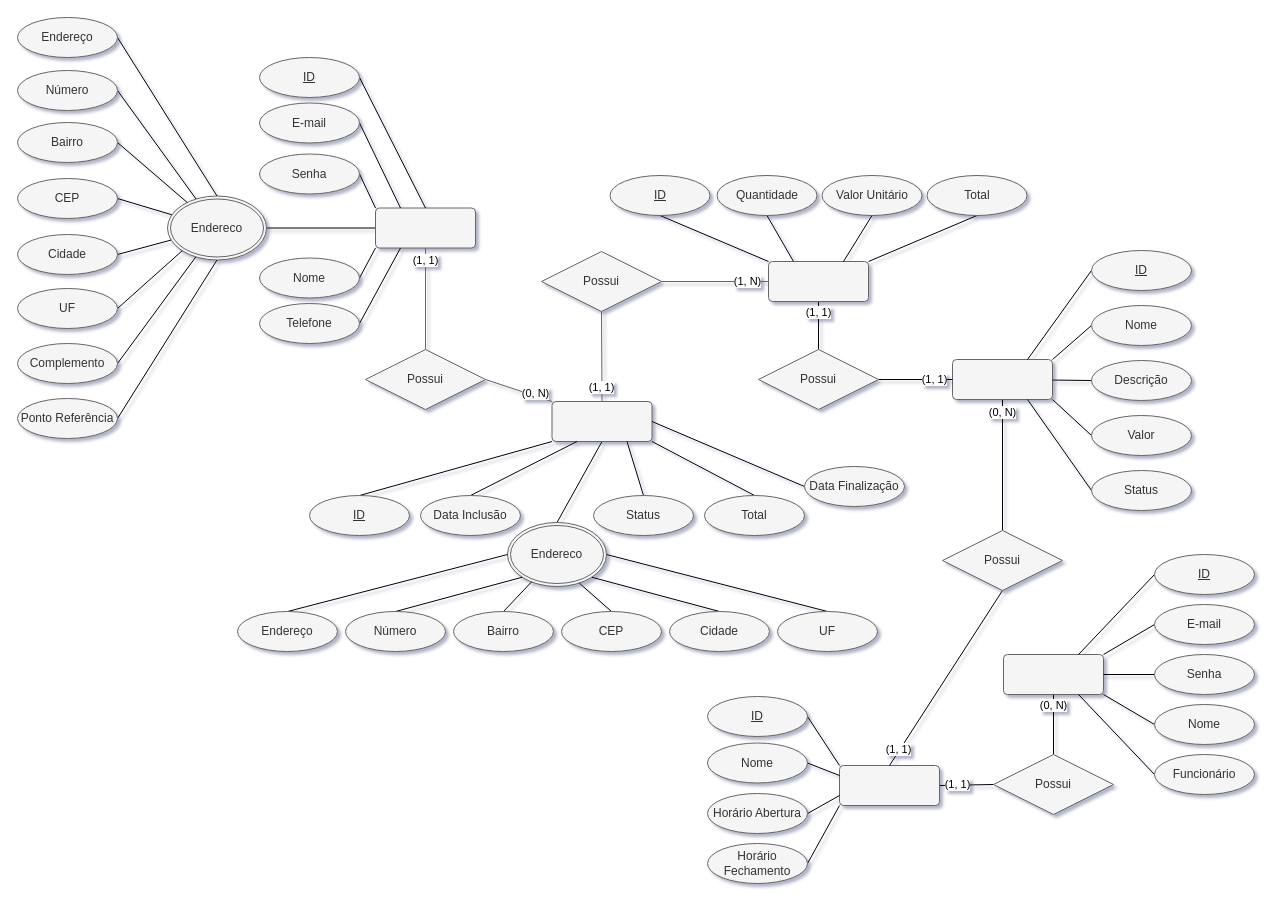
This 1278x907 diagram has some shape labels left out. The shapes that lost their labels are listed below. From the top down, each one's centre as x and y in pixels, then its label:
At (x=425, y=227): "Usuário Cliente".
At (x=818, y=281): "Pedido Produto".
At (x=1002, y=379): "Produto".
At (x=601, y=421): "Pedido".
At (x=1053, y=674): "Usuário Loja".
At (x=889, y=785): "Loja".
